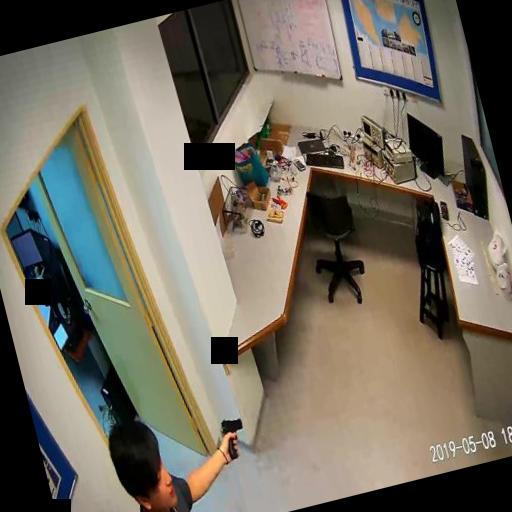Handgun: (217, 413, 249, 461)
